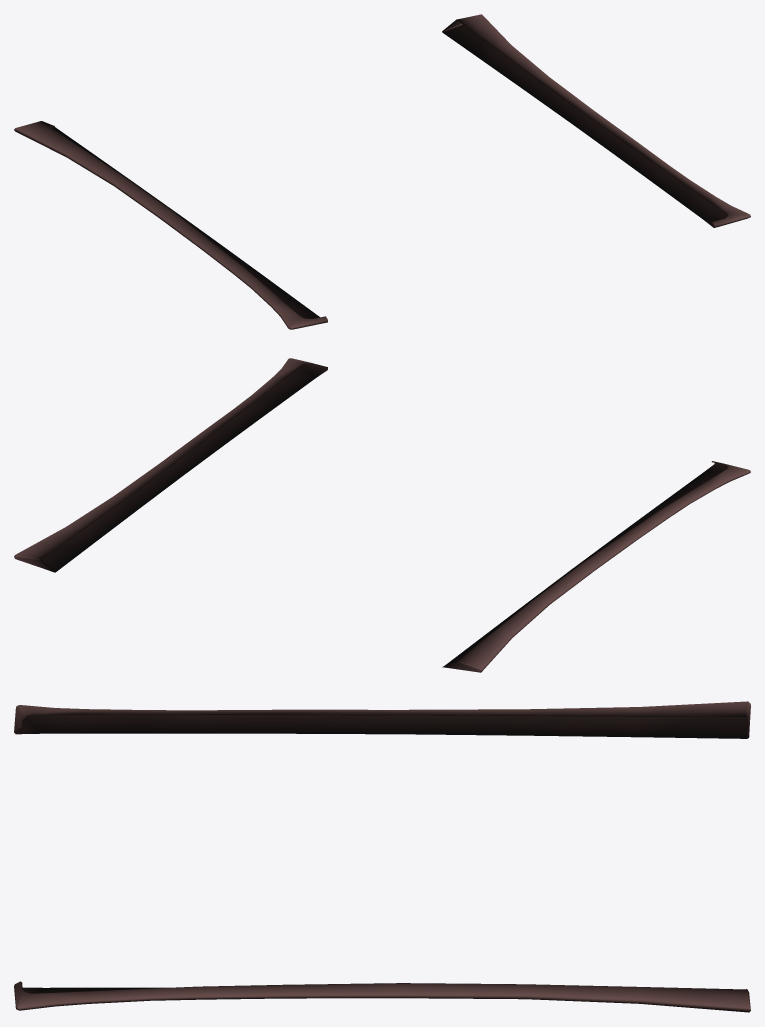
Rendered from Zr1_Skirt_02_Trim.fbx.
3 views of the same model, one above another, from view 1: azimuth 30°, elevation 25°; view 2: azimuth 150°, elevation 25°; view 3: azimuth 270°, elevation 25° (orthographic). The views are drawn at different scales.
Visible parts, largest first — view 1: Zr1_Skirt_02_Trim; view 2: Zr1_Skirt_02_Trim; view 3: Zr1_Skirt_02_Trim.
Boxes of the visible parts, x1=… form: Zr1_Skirt_02_Trim: x1=14, y1=14, x2=750, y2=329; Zr1_Skirt_02_Trim: x1=14, y1=358, x2=750, y2=672; Zr1_Skirt_02_Trim: x1=14, y1=701, x2=750, y2=1012.
Size of the model in its own units: 191 by 5.2 by 193.
